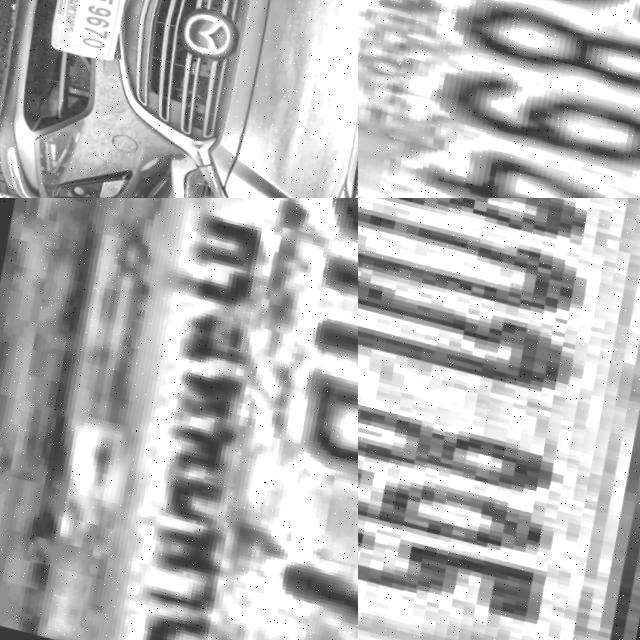license-plate: (30, 198, 358, 640), (358, 198, 640, 640), (358, 0, 640, 198), (41, 0, 141, 65)
